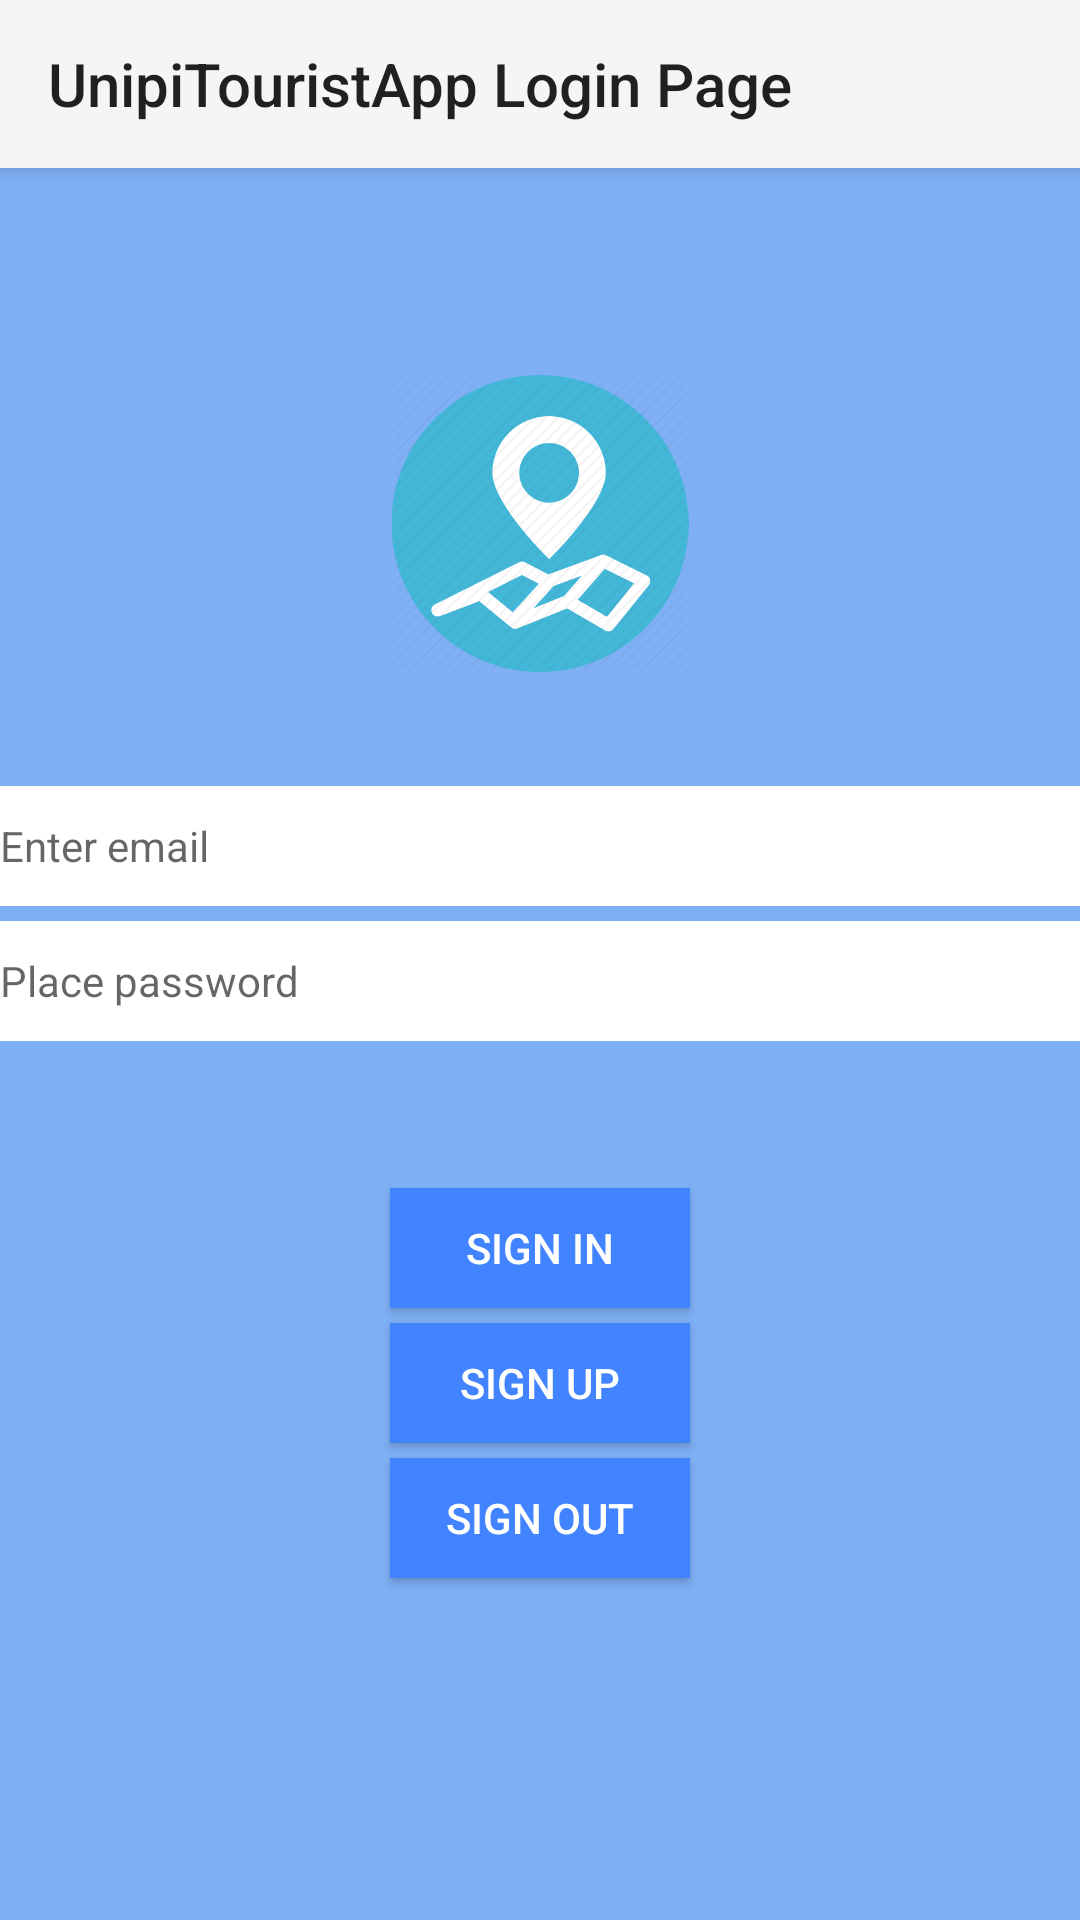

Icon bounding boxes for this 1080*1920 phone screenshot, format (x1, y1, x2, y2):
places: (392, 375, 689, 672)
